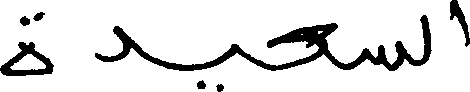ا: (449, 0, 468, 47)
ة: (0, 9, 55, 76)
د: (94, 23, 130, 61)
س: (361, 38, 404, 71)
غ: (266, 21, 337, 72)
ل: (418, 13, 430, 67)
ي: (195, 41, 242, 90)
